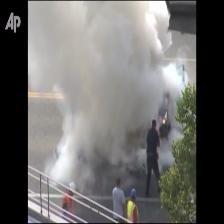smoke: (59, 21, 157, 144)
